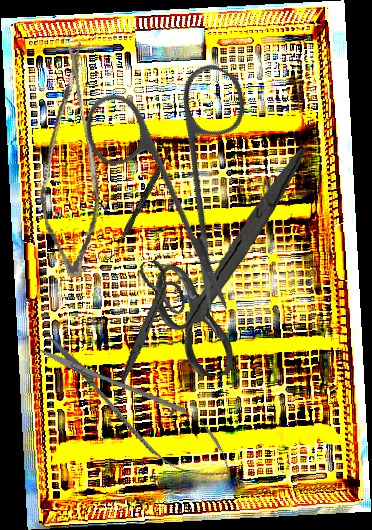Iris Scissors: (32, 21, 330, 319), (150, 148, 316, 378), (98, 256, 198, 383)
Micro Scissor: (27, 319, 247, 498), (11, 38, 125, 281)
Spatula Surgical: (108, 144, 174, 263)
